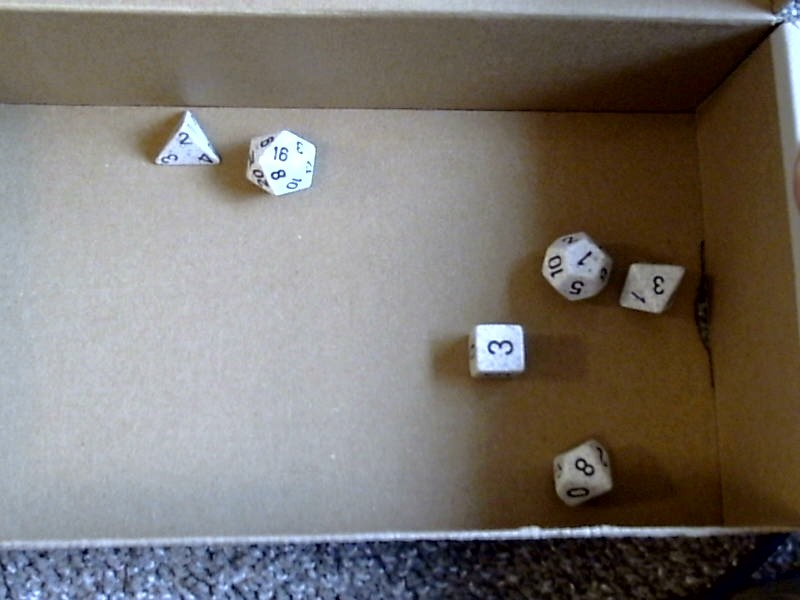d10 8: (547, 436, 618, 515)
d12 1: (536, 222, 615, 307)
d20 16: (241, 124, 320, 198)
d4 2: (146, 106, 226, 174)
d6 3: (460, 316, 531, 385)
d8 3: (617, 259, 688, 328)
